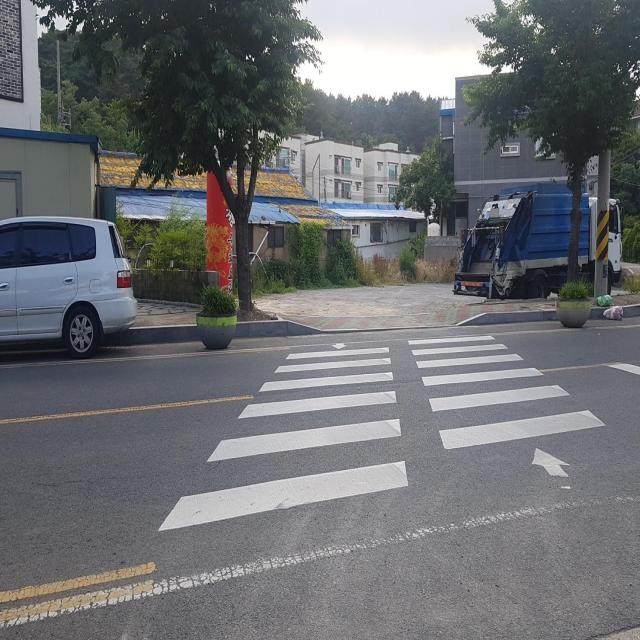횡단보도: (153, 328, 608, 539)
